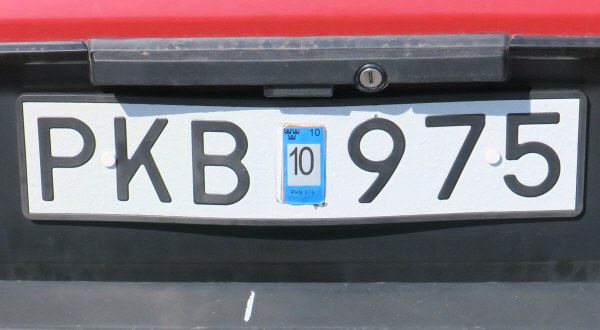license_plate: (16, 93, 584, 217)
